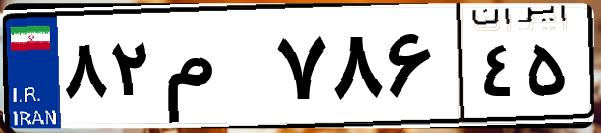2: (110, 28, 158, 98)
4: (475, 38, 525, 113)
5: (525, 38, 570, 115)
6: (385, 28, 445, 110)
7: (270, 28, 330, 110)
8: (330, 28, 385, 110), (57, 26, 110, 100)
م: (158, 20, 270, 120)
